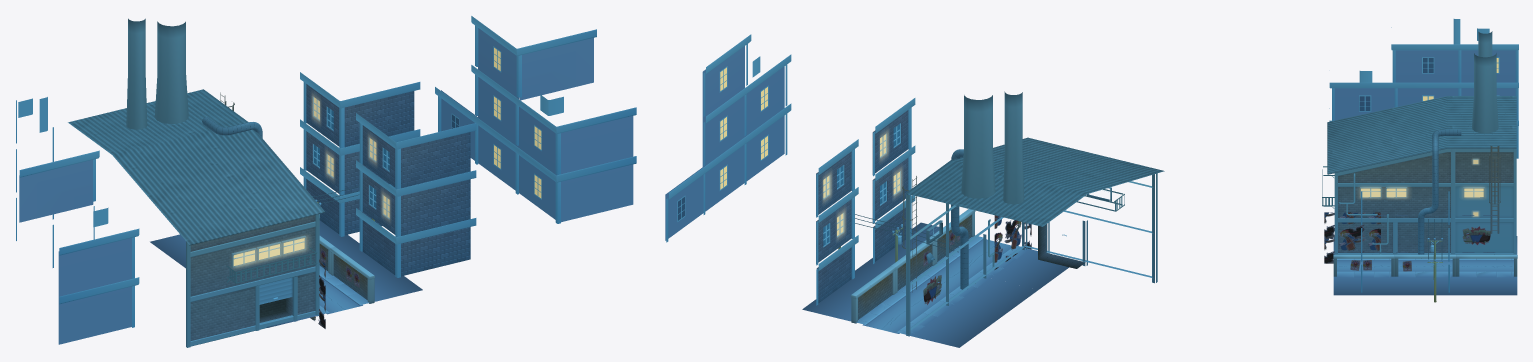
File: IndustrialWarehouse02.prefab.glb
3 views of the same model, side by side, from view 1: azimuth 30°, elevation 25°; view 2: azimuth 150°, elevation 25°; view 3: azimuth 270°, elevation 25° (orthographic). The views are drawn at different scales.
Parts seen in each view (by area): view 1: Warehouse02, FarBackBuilding03, BackgroundBuilding02, BackgroundBuilding02 (1), IndustrialWarehouse02, BrickWall, Road02 (1), Road02; view 2: Warehouse02, FarBackBuilding03, BackgroundBuilding02 (1), BackgroundBuilding02, Road02 (1), Road02, IndustrialWarehouse02, BrickWall (2), BrickWall (1), Graffiti01, BrickWall; view 3: Warehouse02, FarBackBuilding03, Road02 (1), IndustrialWarehouse02, Road02, Graffiti01, BrickWall (1), BrickWall (2), BrickWall, Graffiti10, LightGlowPlane (5), LightGlowPlane (4) (+4 smaller).
Part boxes in pixels (<box>): Warehouse02: <box>68,18,324,347</box>; FarBackBuilding03: <box>16,16,636,344</box>; BackgroundBuilding02: <box>356,113,476,277</box>; BackgroundBuilding02 (1): <box>300,72,420,236</box>; IndustrialWarehouse02: <box>266,263,422,327</box>; BrickWall: <box>330,247,374,303</box>; Road02 (1): <box>150,220,337,268</box>; Road02: <box>319,234,377,277</box>; Warehouse02: <box>902,91,1164,336</box>; FarBackBuilding03: <box>665,34,791,242</box>; BackgroundBuilding02 (1): <box>816,139,858,305</box>; BackgroundBuilding02: <box>872,98,915,263</box>; Road02 (1): <box>802,282,998,347</box>; Road02: <box>848,253,1037,318</box>; IndustrialWarehouse02: <box>888,222,1068,289</box>; BrickWall (2): <box>850,266,895,323</box>; BrickWall (1): <box>891,237,935,292</box>; Graffiti01: <box>994,215,1031,269</box>; BrickWall: <box>931,209,975,264</box>; Warehouse02: <box>1322,31,1516,258</box>; FarBackBuilding03: <box>1329,19,1518,158</box>; Road02 (1): <box>1456,236,1517,295</box>; IndustrialWarehouse02: <box>1333,237,1394,295</box>; Road02: <box>1394,258,1455,295</box>; Graffiti01: <box>1324,212,1380,263</box>; BrickWall (1): <box>1394,254,1455,276</box>; BrickWall (2): <box>1456,254,1517,276</box>; BrickWall: <box>1333,254,1394,276</box>; Graffiti10: <box>1462,226,1490,245</box>; LightGlowPlane (5): <box>1462,186,1485,198</box>; LightGlowPlane (4): <box>1386,186,1408,198</box>.
Bounding box in the file's own units: 76.34 × 32.75 × 28.94.
11 materials, 10 textured.
